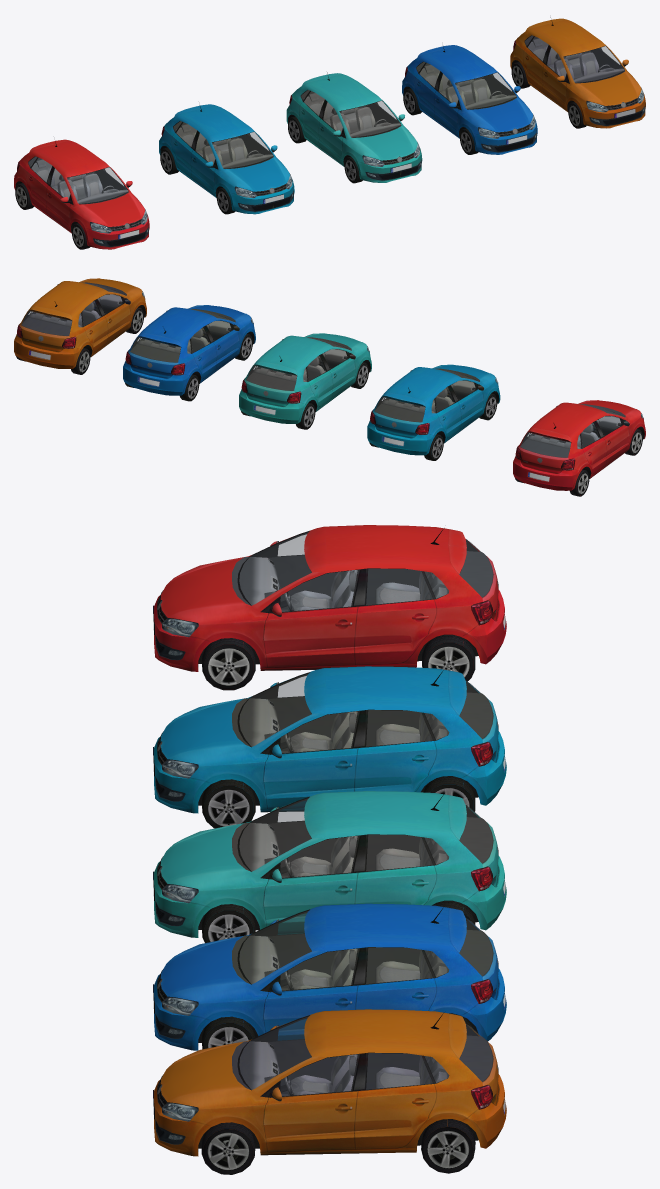
The model's file is low poly Cars with interior.FBX.
3 renders of one model, top to bottom at view 1: azimuth 30°, elevation 25°; view 2: azimuth 150°, elevation 25°; view 3: azimuth 270°, elevation 25°, orthographic. The views are drawn at different scales.
Parts seen in each view (by area): view 1: low poly Car vw_copper, low poly Car vw_cyan, low poly Car vw_blue, low poly Car vw_red, low poly Car vw_light blue; view 2: low poly Car vw_light blue, low poly Car vw_blue, low poly Car vw_cyan, low poly Car vw_copper, low poly Car vw_red, red_back wheel2, blue_back wheel2, cyan_back wheel2, copper_back wheel2, light blue_back wheel2; view 3: low poly Car vw_copper, low poly Car vw_red, low poly Car vw_light blue, low poly Car vw_cyan, low poly Car vw_blue, copper_back wheel1, copper_front wheel1, red_front wheel1, light blue_front wheel1, red_back wheel1, cyan_front wheel1, blue_front wheel1 (+1 smaller).
Part boxes in pixels (x1,y1,x2,y2): low poly Car vw_copper: [510, 17, 645, 128]; low poly Car vw_cyan: [286, 72, 422, 182]; low poly Car vw_blue: [402, 45, 537, 154]; low poly Car vw_red: [14, 139, 149, 249]; low poly Car vw_light blue: [159, 104, 294, 214]; low poly Car vw_light blue: [367, 364, 500, 455]; low poly Car vw_blue: [123, 305, 255, 395]; low poly Car vw_cyan: [239, 333, 371, 423]; low poly Car vw_copper: [14, 278, 146, 368]; low poly Car vw_red: [513, 400, 645, 490]; red_back wheel2: [570, 469, 589, 496]; blue_back wheel2: [180, 374, 199, 401]; cyan_back wheel2: [296, 402, 315, 429]; copper_back wheel2: [71, 348, 90, 374]; light blue_back wheel2: [424, 434, 443, 460]; low poly Car vw_copper: [153, 1009, 506, 1156]; low poly Car vw_red: [153, 525, 506, 671]; low poly Car vw_light blue: [153, 666, 506, 813]; low poly Car vw_cyan: [153, 791, 506, 937]; low poly Car vw_blue: [153, 903, 506, 1050]; copper_back wheel1: [421, 1119, 475, 1173]; copper_front wheel1: [201, 1122, 255, 1174]; red_front wheel1: [202, 638, 255, 690]; light blue_front wheel1: [202, 779, 255, 828]; red_back wheel1: [422, 634, 475, 681]; cyan_front wheel1: [202, 904, 255, 942]; blue_front wheel1: [202, 1016, 255, 1049].
Size of the model in its own units: 14.72 by 1.66 by 3.96.
